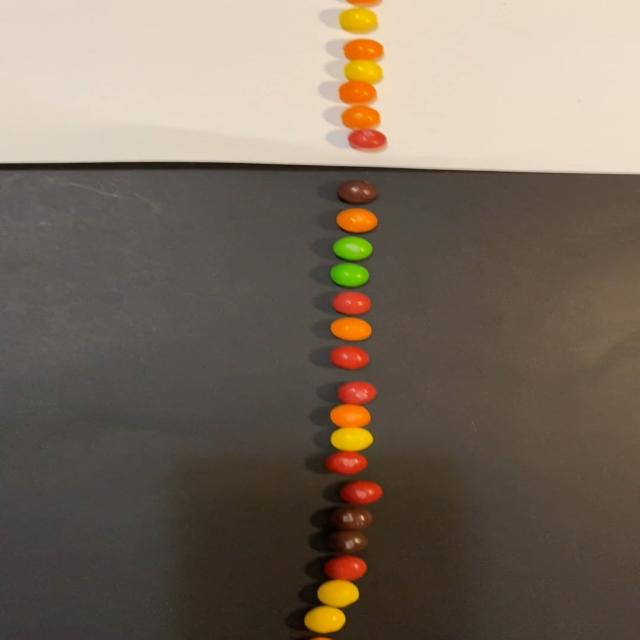smartie: (317, 581, 360, 608), (304, 608, 346, 635), (334, 207, 376, 232), (325, 554, 367, 579), (338, 179, 380, 203), (328, 506, 370, 530), (325, 451, 367, 475), (337, 480, 380, 503), (330, 427, 373, 450), (333, 236, 374, 260), (331, 317, 373, 340), (326, 530, 366, 554), (343, 60, 383, 84), (329, 261, 369, 285), (340, 8, 378, 33), (332, 292, 371, 316), (338, 380, 378, 403), (338, 79, 376, 103), (342, 107, 381, 130), (329, 347, 368, 370), (345, 39, 385, 61), (330, 405, 370, 427), (348, 128, 387, 149)
